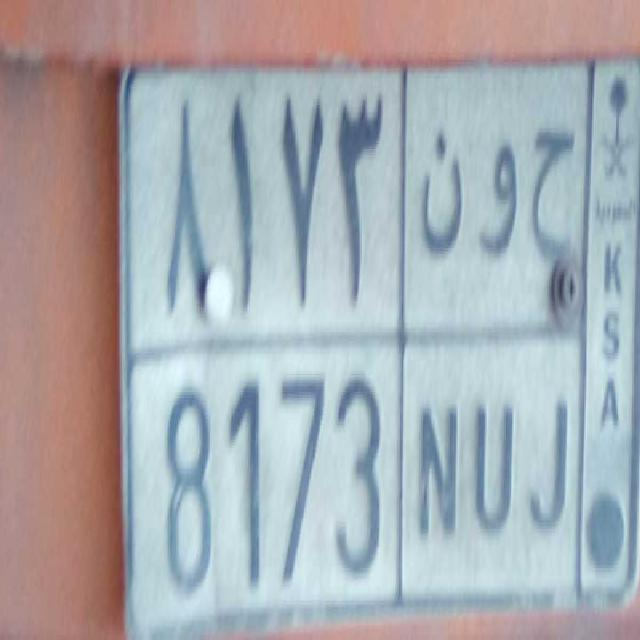license_plate: (126, 328, 579, 608)
